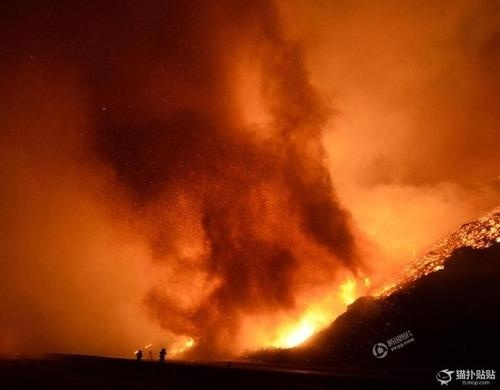fire: (169, 330, 198, 358)
